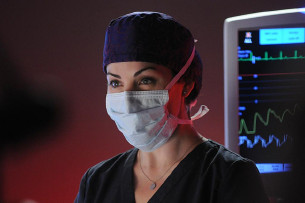face_mask: (105, 57, 169, 153)
